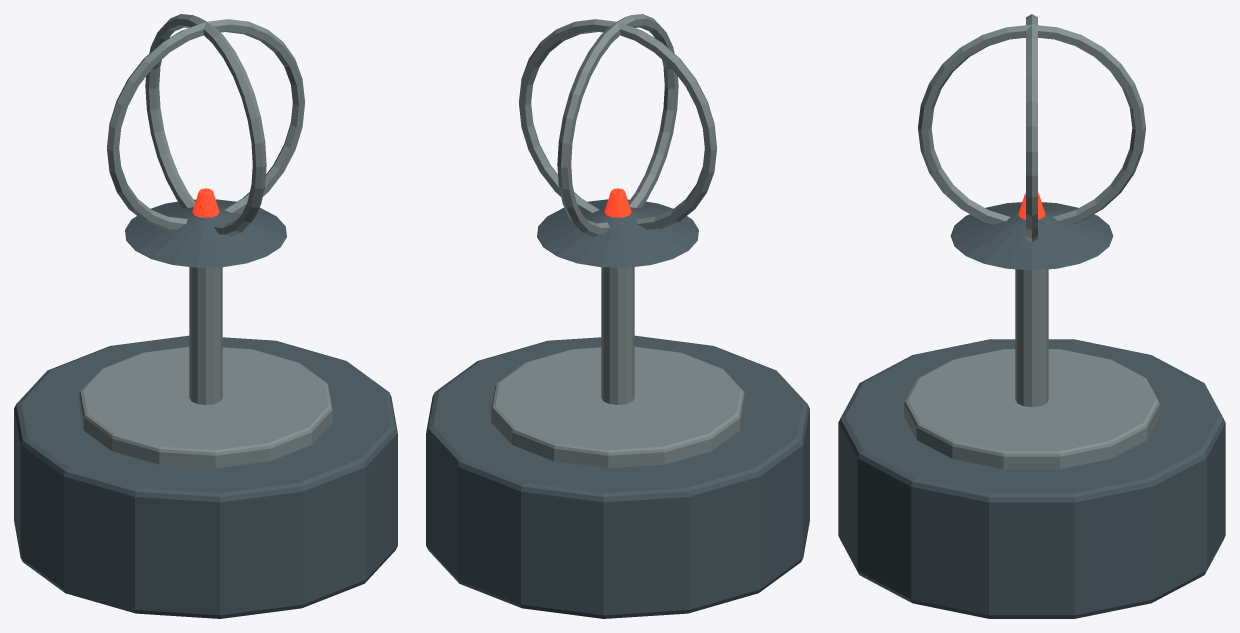
Rendered from beacon.glb.
3 renders of one model, left to right at view 1: azimuth 30°, elevation 25°; view 2: azimuth 150°, elevation 25°; view 3: azimuth 270°, elevation 25°, orthographic.
Parts seen in each view (by area): view 1: Beacon_Base, Beacon_Upper, BeaconRing_1, Beacon_Dish, BeaconRing_2, Beacon_Mast, Beacon_Emitter; view 2: Beacon_Base, Beacon_Upper, BeaconRing_1, Beacon_Dish, BeaconRing_2, Beacon_Mast, Beacon_Emitter; view 3: Beacon_Base, Beacon_Upper, BeaconRing_2, Beacon_Dish, Beacon_Mast, BeaconRing_1.
Part boxes in pixels (box(x1,y1,x2,y2)): Beacon_Base: box(14, 335, 397, 618); Beacon_Upper: box(79, 346, 332, 468); BeaconRing_1: box(107, 19, 304, 229); Beacon_Dish: box(125, 199, 286, 267); BeaconRing_2: box(145, 14, 266, 236); Beacon_Mast: box(189, 267, 222, 404); Beacon_Emitter: box(192, 188, 219, 217); Beacon_Base: box(426, 335, 809, 618); Beacon_Upper: box(491, 346, 744, 468); BeaconRing_1: box(519, 19, 716, 229); Beacon_Dish: box(537, 199, 698, 267); BeaconRing_2: box(557, 14, 678, 236); Beacon_Mast: box(601, 267, 634, 404); Beacon_Emitter: box(604, 188, 631, 217); Beacon_Base: box(838, 339, 1225, 618); Beacon_Upper: box(904, 349, 1159, 469); BeaconRing_2: box(918, 24, 1145, 224); Beacon_Dish: box(950, 202, 1113, 270); Beacon_Mast: box(1015, 269, 1048, 407); BeaconRing_1: box(1026, 14, 1037, 241).
Bounding box in the file's own units: 5.46 × 8.25 × 5.6.
